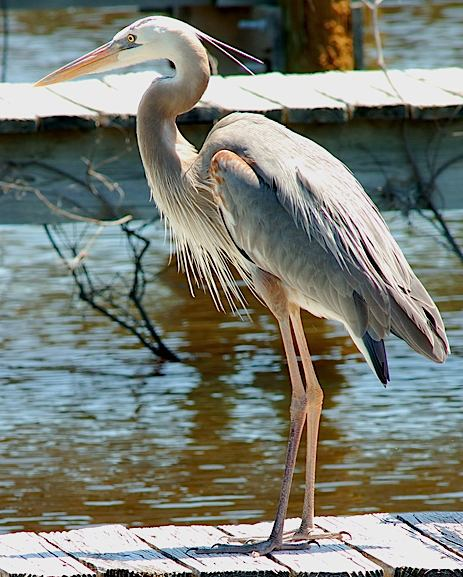heron: (33, 14, 452, 558)
